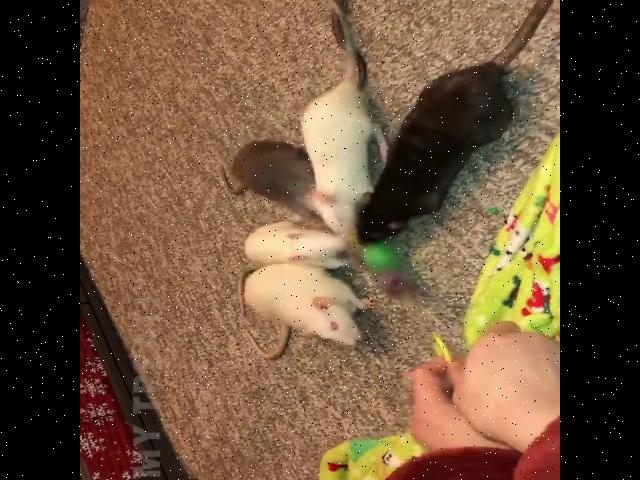Tikus: (359, 0, 557, 243), (301, 0, 387, 242), (240, 264, 366, 360), (225, 138, 324, 218), (242, 220, 356, 266)
